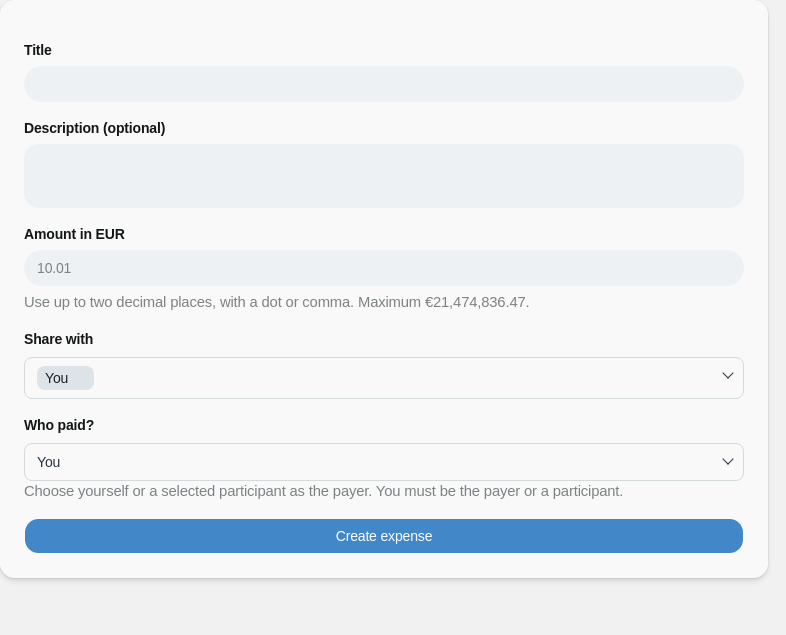
financial journey components › filters nonnumeric money input and requests a decimal mobile keyboard
Type "ab12,345x" into the field with id "debt-amount". click: (384, 268)
box: left=24, top=250, right=744, bottom=286
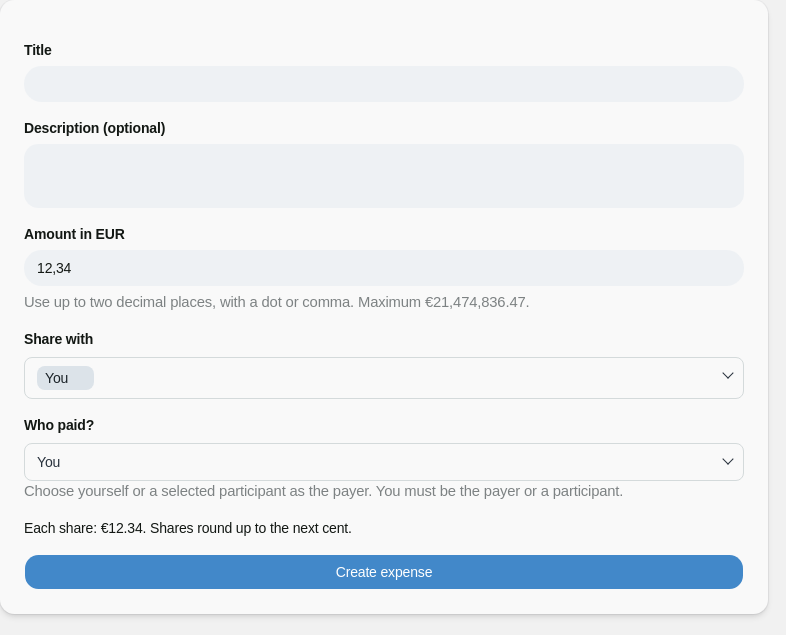
Check: the field with id "debt-amount" holds "12,34", box left=24, top=250, right=744, bottom=286
